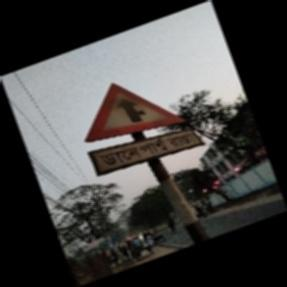Side-road-right: (84, 82, 202, 176)
